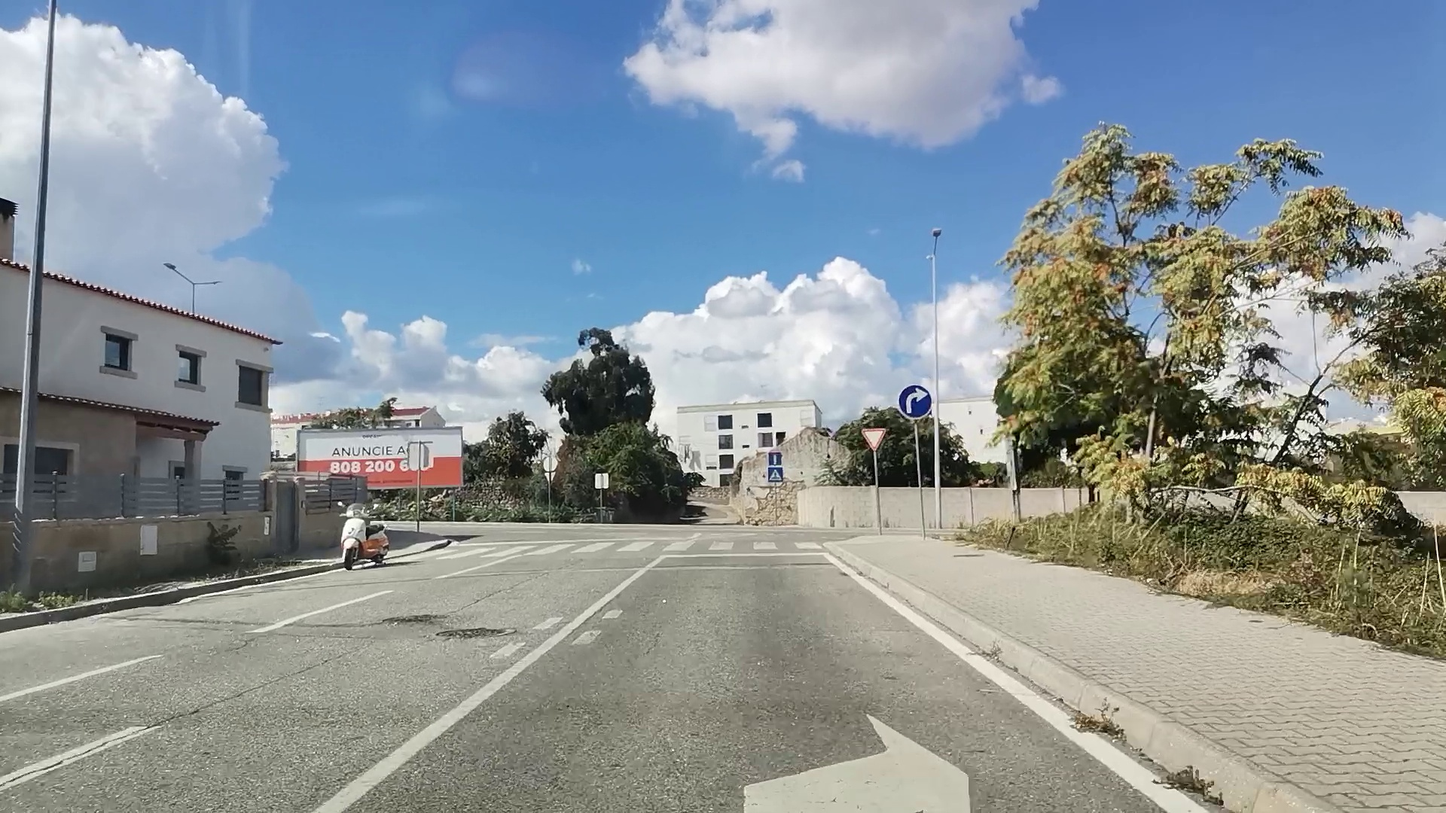Stairs: (416, 541, 824, 558)
